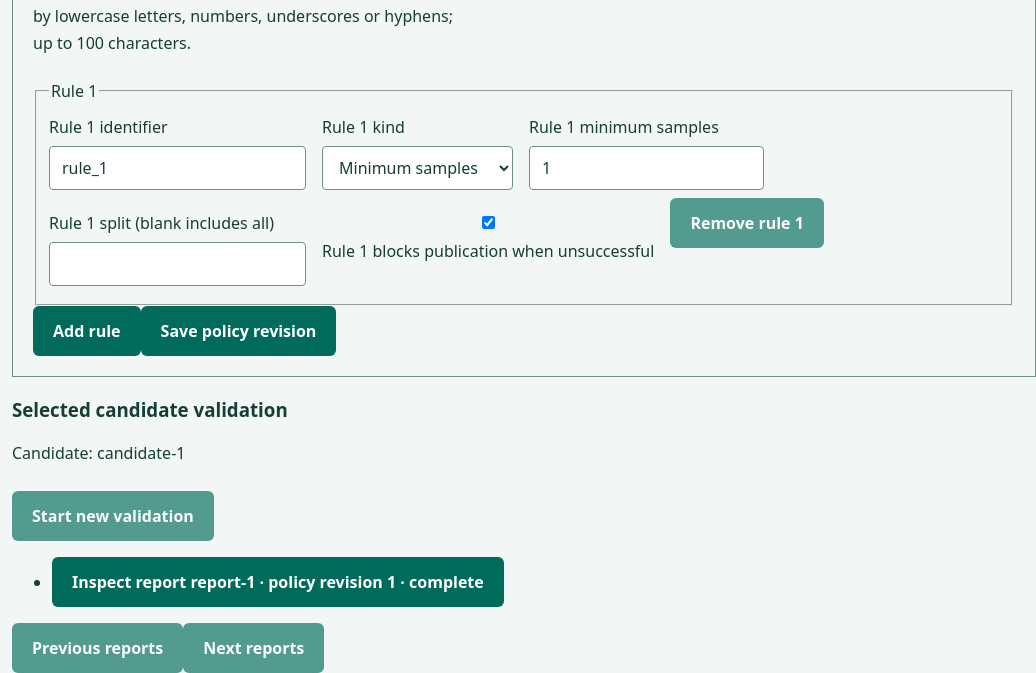
Test: candidate quality evidence › distinguishes the completed required gate verdict true
(page scrolled)
Click the button "Inspect report report-1 · policy revision 1 · complete" at point(278, 582), box [52,557,504,607]
(page scrolled)
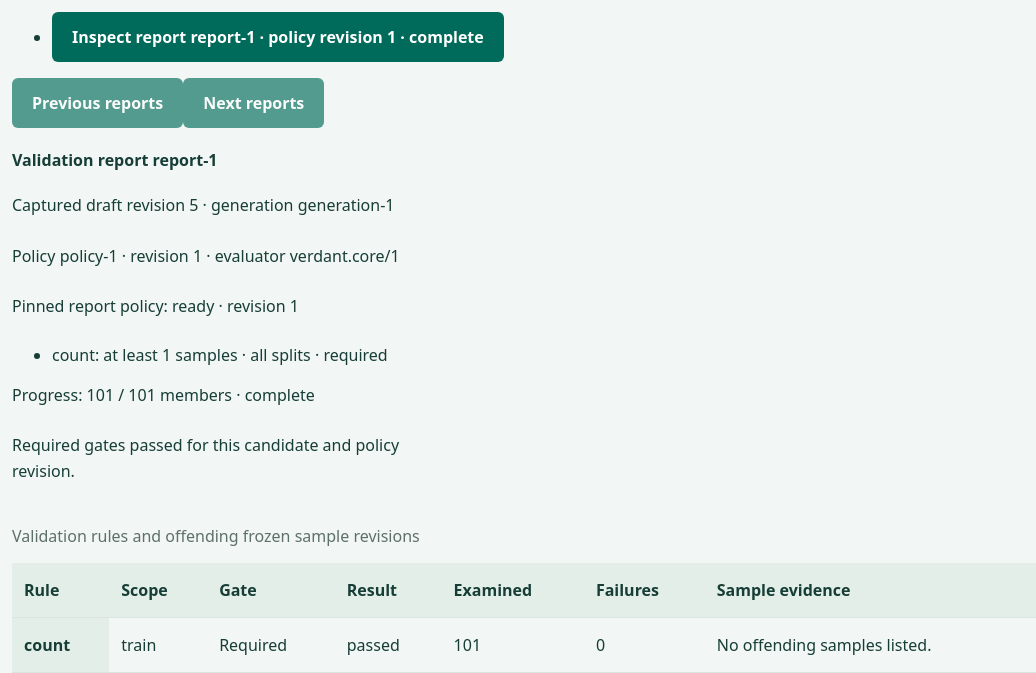
expect the text "Required gates passed for this candidate and policy revision." is shown: met, box [12,432,451,485]
expect the text "Captured draft revision 5 · generation generation-1" is shown: met, box [12,192,451,219]
expect the text "generation-1" is shown: met, box [298,194,394,216]
